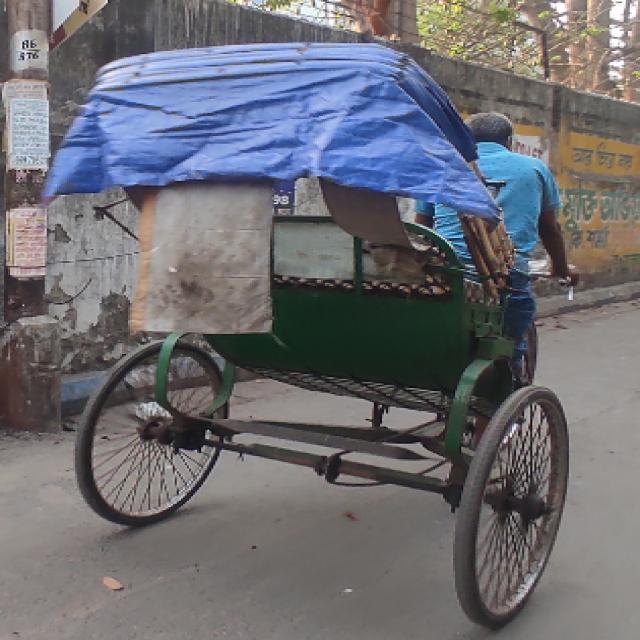rickshaw: (47, 39, 577, 630)
